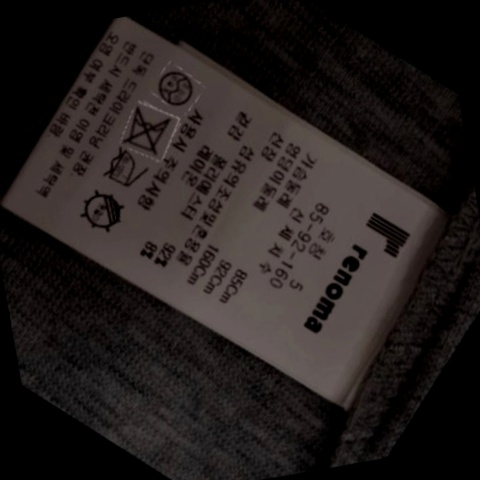DN_wash: (121, 105, 179, 156)
dry_clean_petrol_only: (154, 64, 200, 109)
iron_low: (98, 147, 150, 193)
line_dry_in_shade: (78, 188, 134, 235)
